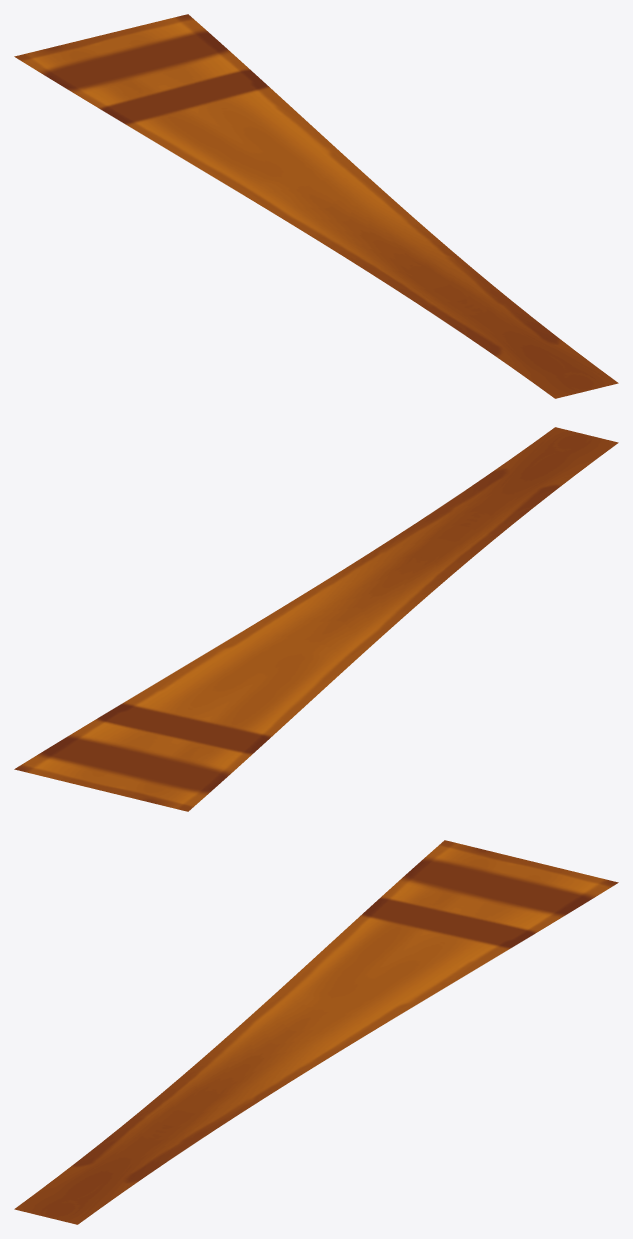
The model's file is samurai_cloth_large.fbx.
The picture shows the model from 3 angles, top to bottom: view 1: azimuth 30°, elevation 25°; view 2: azimuth 150°, elevation 25°; view 3: azimuth 330°, elevation 25°; orthographic projection.
Parts seen in each view (by area): view 1: cloth_large; view 2: cloth_large; view 3: cloth_large.
Boxes of the visible parts, left/top/right/bottom form: cloth_large: left=14, top=14, right=618, bottom=398; cloth_large: left=14, top=427, right=618, bottom=811; cloth_large: left=14, top=840, right=618, bottom=1224.
Bounding box in the file's own units: 81.86 × 0 × 396.
